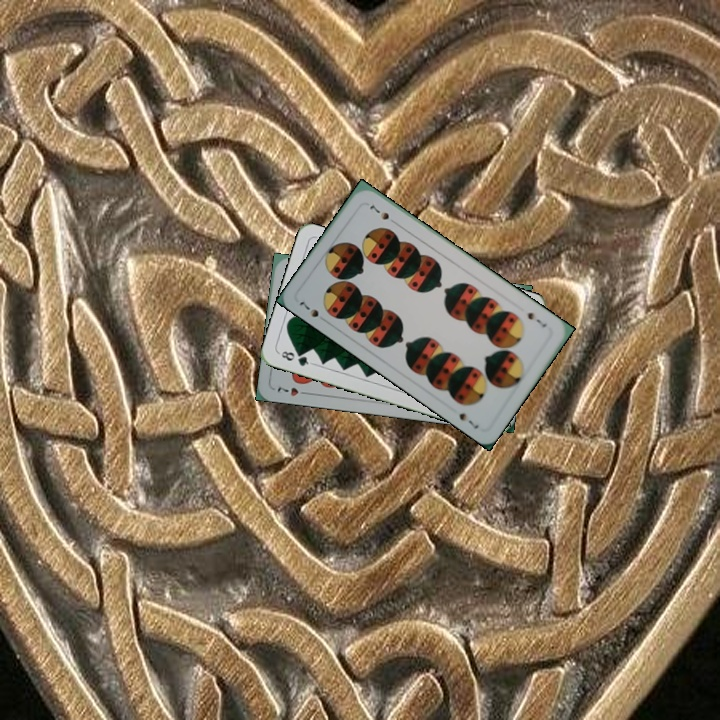G8: (275, 347, 315, 369)
H7: (273, 383, 312, 399)
S7: (295, 297, 321, 320), (522, 308, 549, 330)
